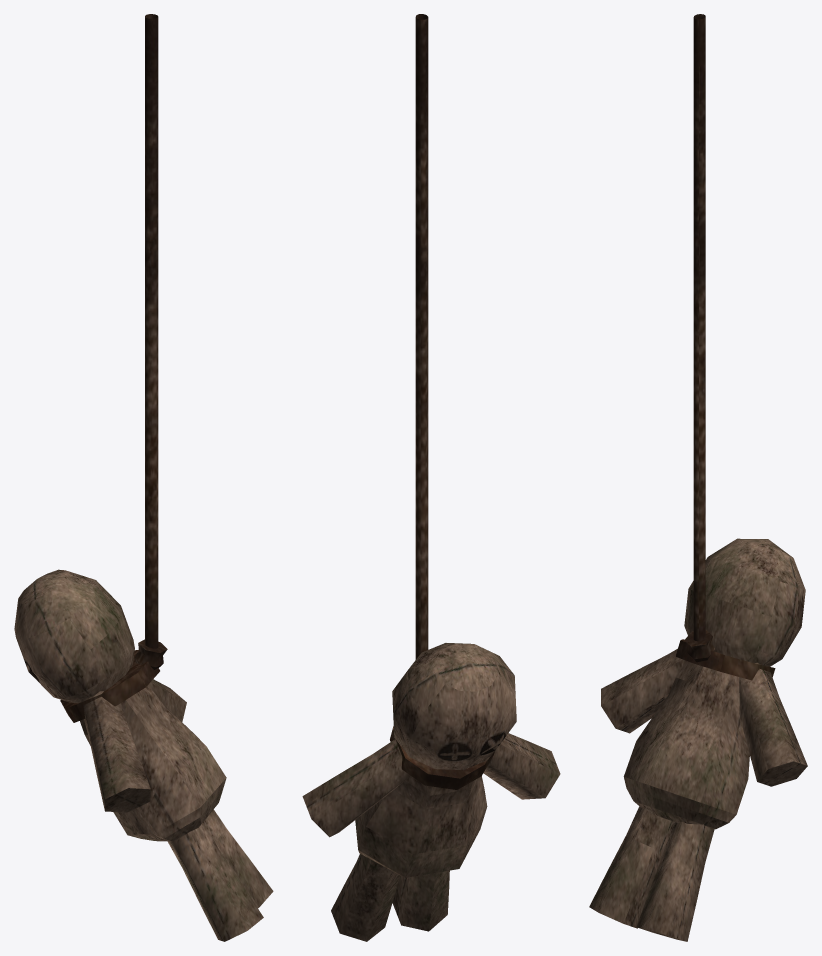
3 renders of one model, left to right at view 1: azimuth 30°, elevation 25°; view 2: azimuth 150°, elevation 25°; view 3: azimuth 270°, elevation 25°, orthographic. The views are drawn at different scales.
Parts seen in each view (by area): view 1: doll_Hanging Doll_0; view 2: doll_Hanging Doll_0; view 3: doll_Hanging Doll_0.
Part boxes in pixels (x1,y1,x2,y2): doll_Hanging Doll_0: (14, 14, 273, 941); doll_Hanging Doll_0: (302, 14, 560, 941); doll_Hanging Doll_0: (589, 14, 807, 941).
Bounding box in the file's own units: 13.5 × 56.55 × 12.58.
1 material, 1 textured.
